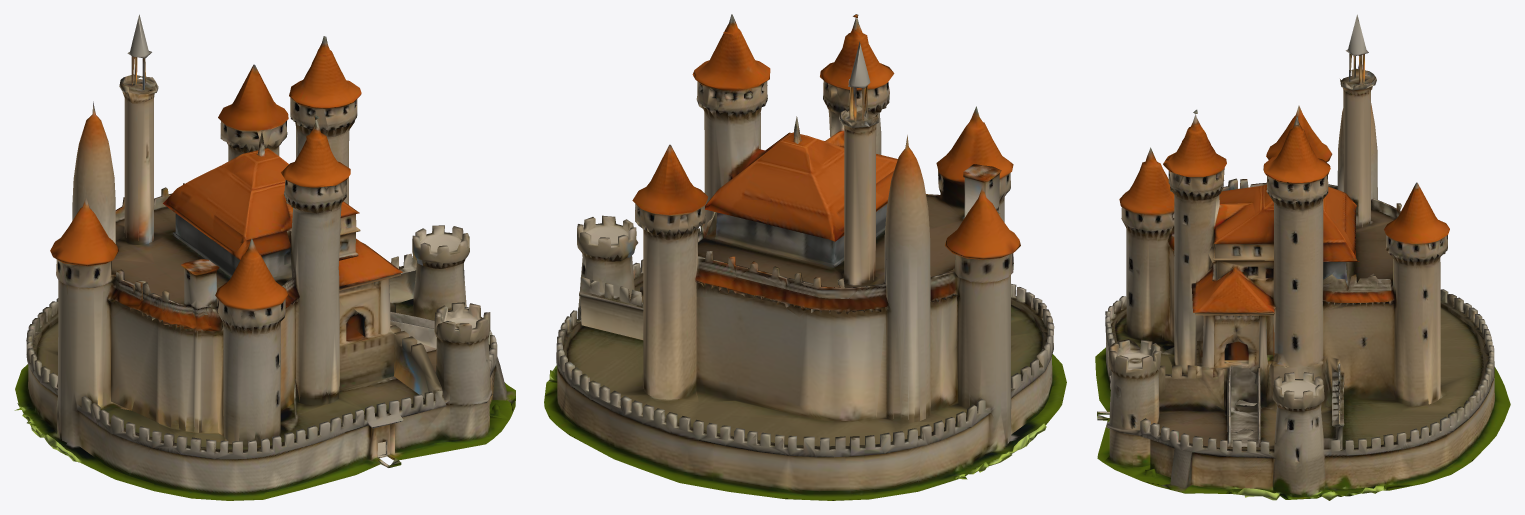
Rendered from medievalCastle.fbx.
3 renders of one model, left to right at view 1: azimuth 30°, elevation 25°; view 2: azimuth 150°, elevation 25°; view 3: azimuth 270°, elevation 25°, orthographic. The views are drawn at different scales.
Parts seen in each view (by area): view 1: tripo_node_d58276d4; view 2: tripo_node_d58276d4; view 3: tripo_node_d58276d4.
Part boxes in pixels (x1=…): tripo_node_d58276d4: x1=14, y1=14, x2=515, y2=500; tripo_node_d58276d4: x1=544, y1=14, x2=1066, y2=500; tripo_node_d58276d4: x1=1095, y1=14, x2=1510, y2=500.
Size of the model in its own units: 0.9993 by 0.8709 by 0.9219.
Materials: 1 (1 with a texture image).
